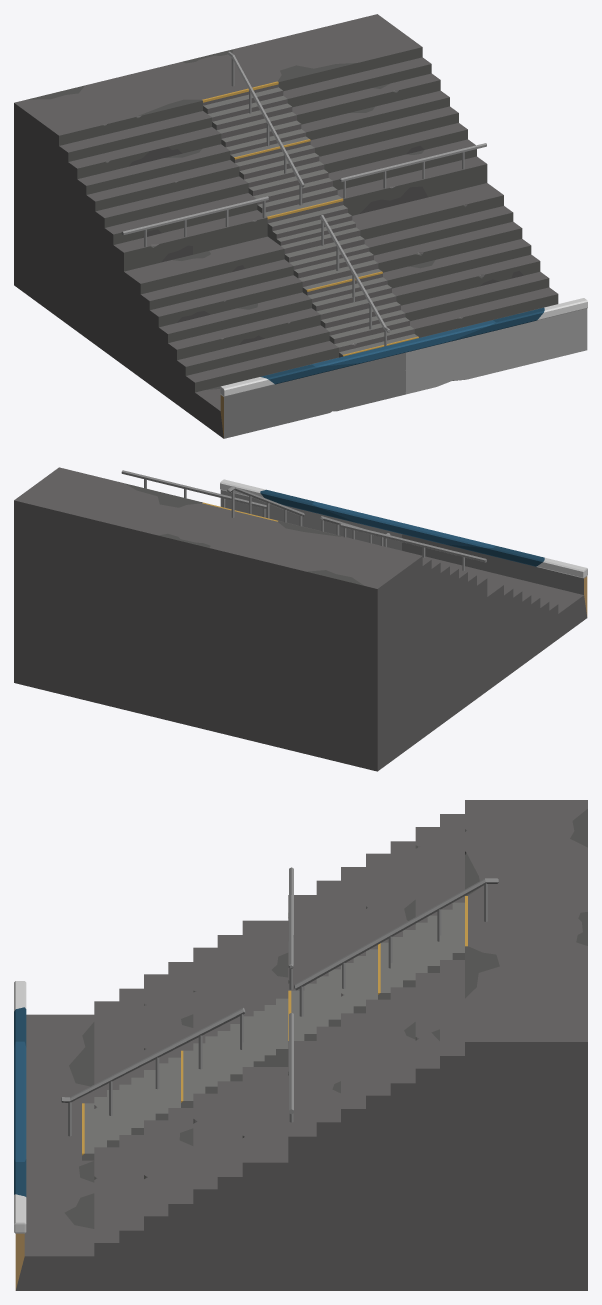
The model's file is grandstand.glb.
3 views of the same model, one above another, from view 1: azimuth 30°, elevation 25°; view 2: azimuth 150°, elevation 25°; view 3: azimuth 270°, elevation 25° (orthographic). The views are drawn at different scales.
Visible parts, largest first — view 1: SM_Bld_Grandstand_01; view 2: SM_Bld_Grandstand_01; view 3: SM_Bld_Grandstand_01.
Part boxes in pixels (box(x1,y1,x2,y2)): SM_Bld_Grandstand_01: box(14, 14, 587, 438); SM_Bld_Grandstand_01: box(14, 467, 587, 771); SM_Bld_Grandstand_01: box(14, 800, 587, 1290).
Bounding box in the file's own units: 12.52 × 7.01 × 12.54.
2 materials, 2 textured.
